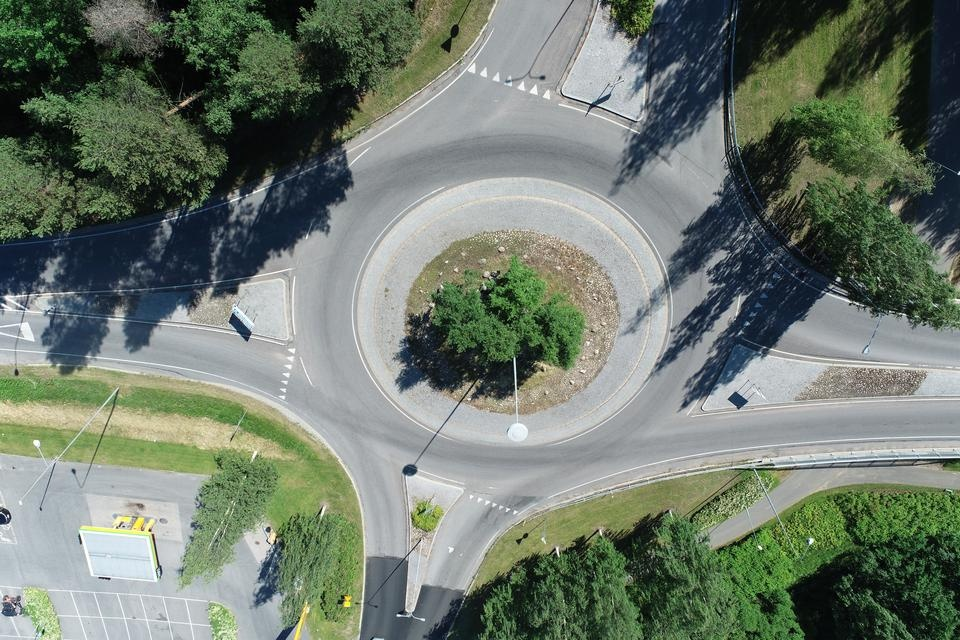roundabout: (225, 35, 787, 526)
